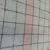others: (24, 1, 34, 48)
